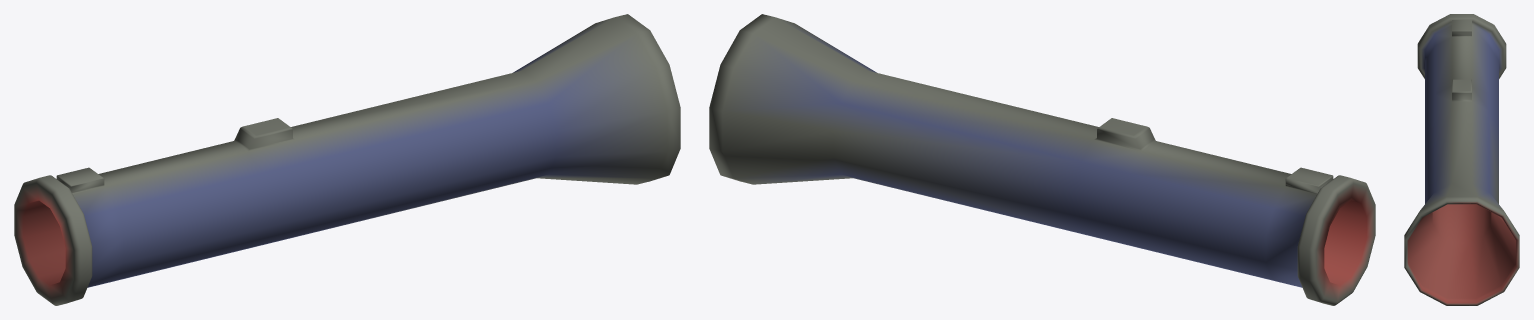
Rendered from rocket launcher.fbx.
3 renders of one model, left to right at view 1: azimuth 30°, elevation 25°; view 2: azimuth 150°, elevation 25°; view 3: azimuth 270°, elevation 25°, orthographic. The views are drawn at different scales.
Parts seen in each view (by area): view 1: rocket launcher; view 2: rocket launcher; view 3: rocket launcher.
Part boxes in pixels (x1=…): rocket launcher: x1=14, y1=14, x2=680, y2=305; rocket launcher: x1=709, y1=14, x2=1375, y2=305; rocket launcher: x1=1404, y1=14, x2=1519, y2=305.
Bounding box in the file's own units: 130 × 31.55 × 31.55.
